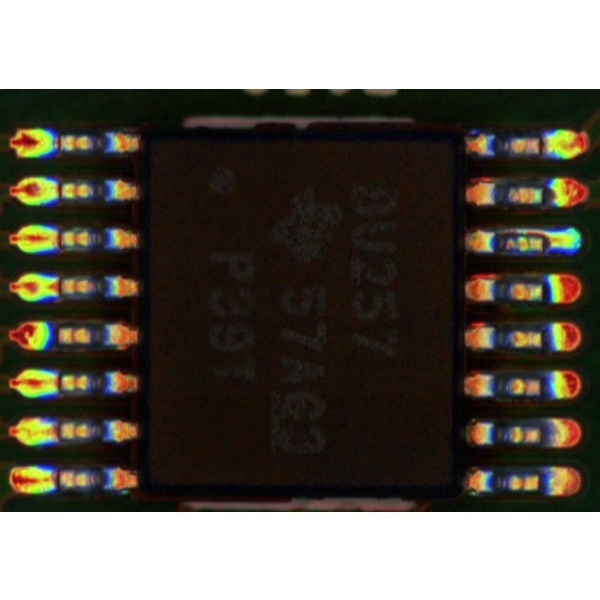Bad_podu: (42, 423, 76, 435), (42, 376, 73, 387), (40, 474, 68, 485), (45, 280, 73, 291), (48, 232, 73, 244)
Bad_qiaojiao: (497, 228, 543, 235)
